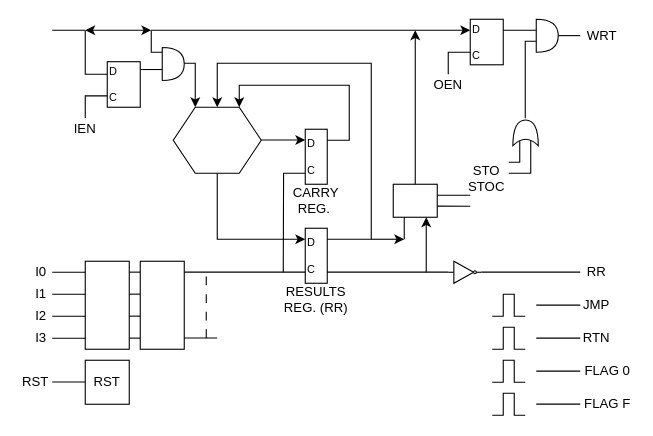
Image size: 653x436. Some labels were removed from this diagram. The shapes that lost their labels are listed below. From the top down, each one's box as (x1, y1, x2, y2) in pixels, then its label:
(172, 106, 261, 173): ALU
(392, 183, 437, 217): MUX
(84, 260, 129, 349): INST REG
